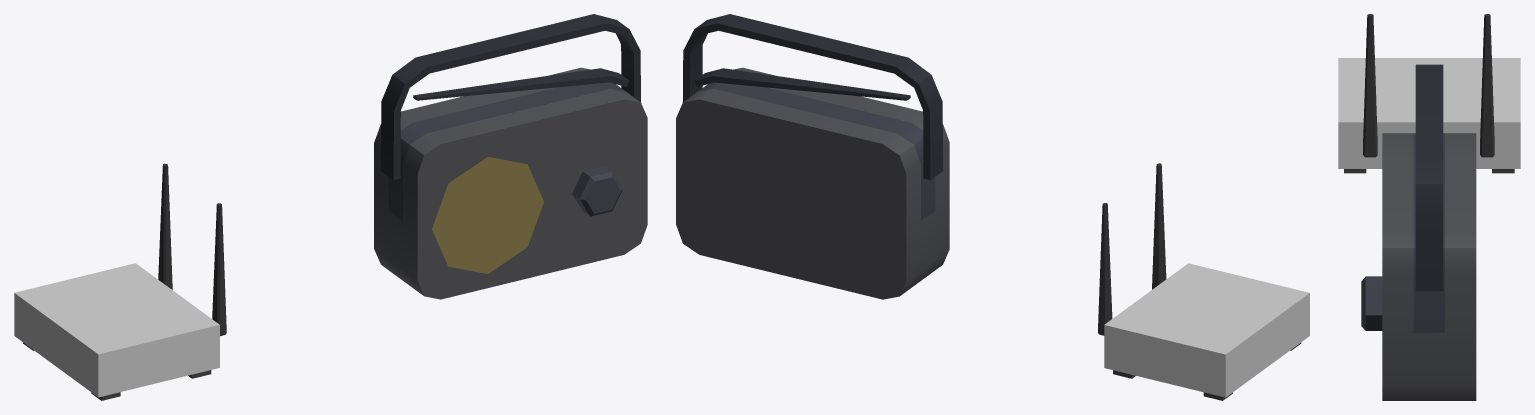
The model's file is Radio_Device.fbx.
3 views of the same model, side by side, from view 1: azimuth 30°, elevation 25°; view 2: azimuth 150°, elevation 25°; view 3: azimuth 270°, elevation 25° (orthographic). The views are drawn at different scales.
Visible parts, largest first — view 1: Radio, Device; view 2: Radio, Device; view 3: Radio, Device.
Boxes of the visible parts, x1,y1,x2,y2 form: Radio: [374, 14, 647, 299]; Device: [14, 163, 226, 400]; Radio: [676, 14, 949, 299]; Device: [1098, 163, 1309, 400]; Radio: [1361, 64, 1476, 400]; Device: [1338, 14, 1520, 173].
Bounding box in the file's own units: 5.74 × 2.11 × 1.45.
